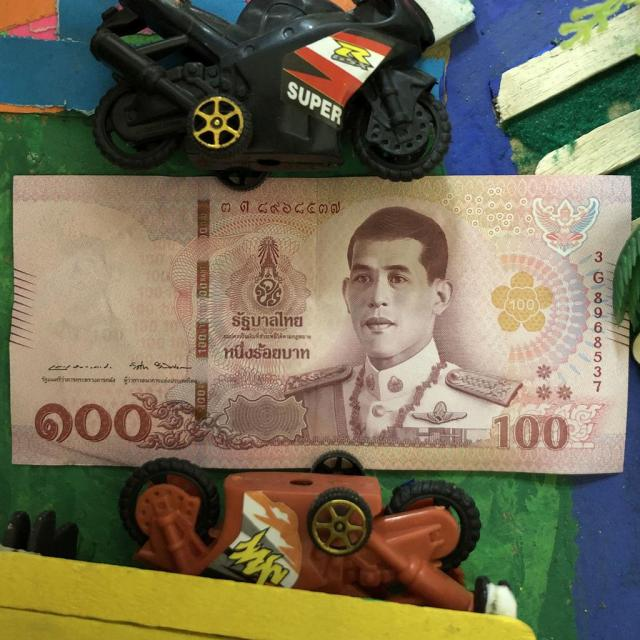THAI100: (9, 176, 630, 474)
